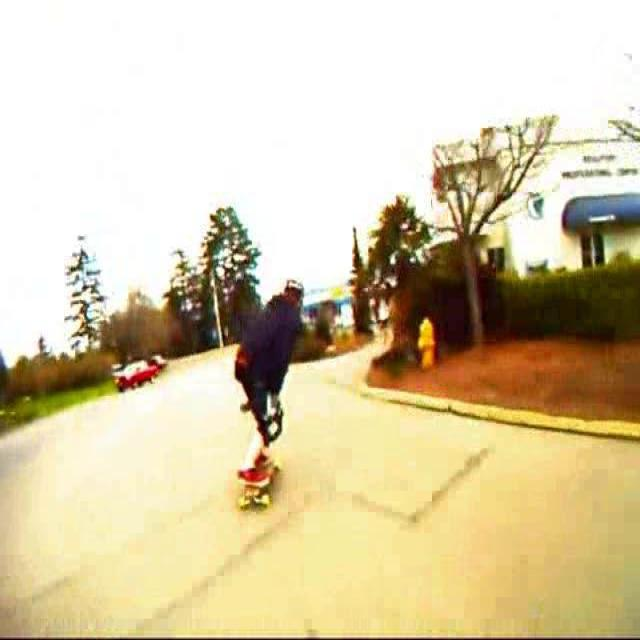other: (226, 433, 281, 521), (396, 305, 446, 381), (105, 351, 172, 398)
